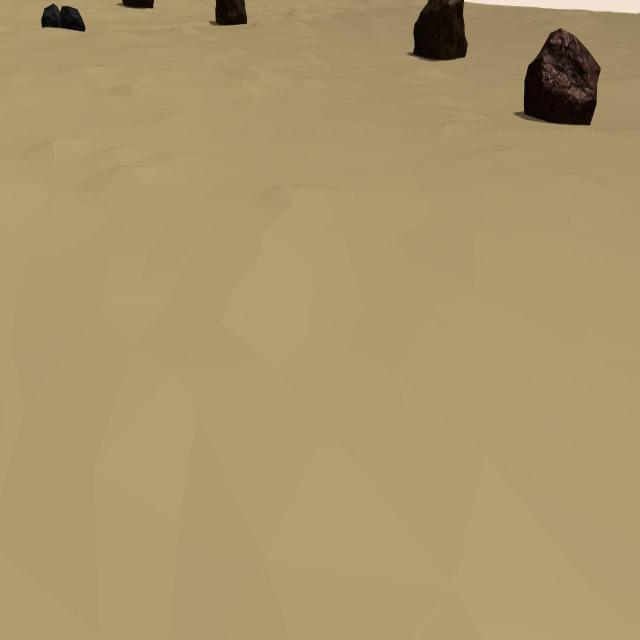rock: (524, 28, 601, 127), (414, 0, 467, 60), (215, 1, 248, 24), (60, 5, 85, 31), (41, 3, 59, 28), (122, 0, 154, 9)
